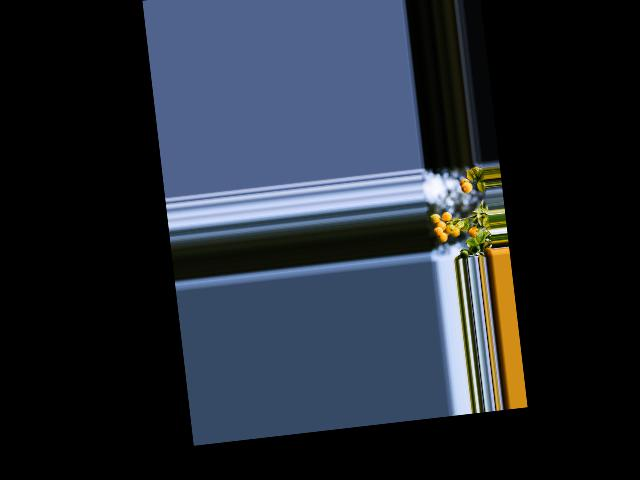lemon: (433, 230, 448, 242)
